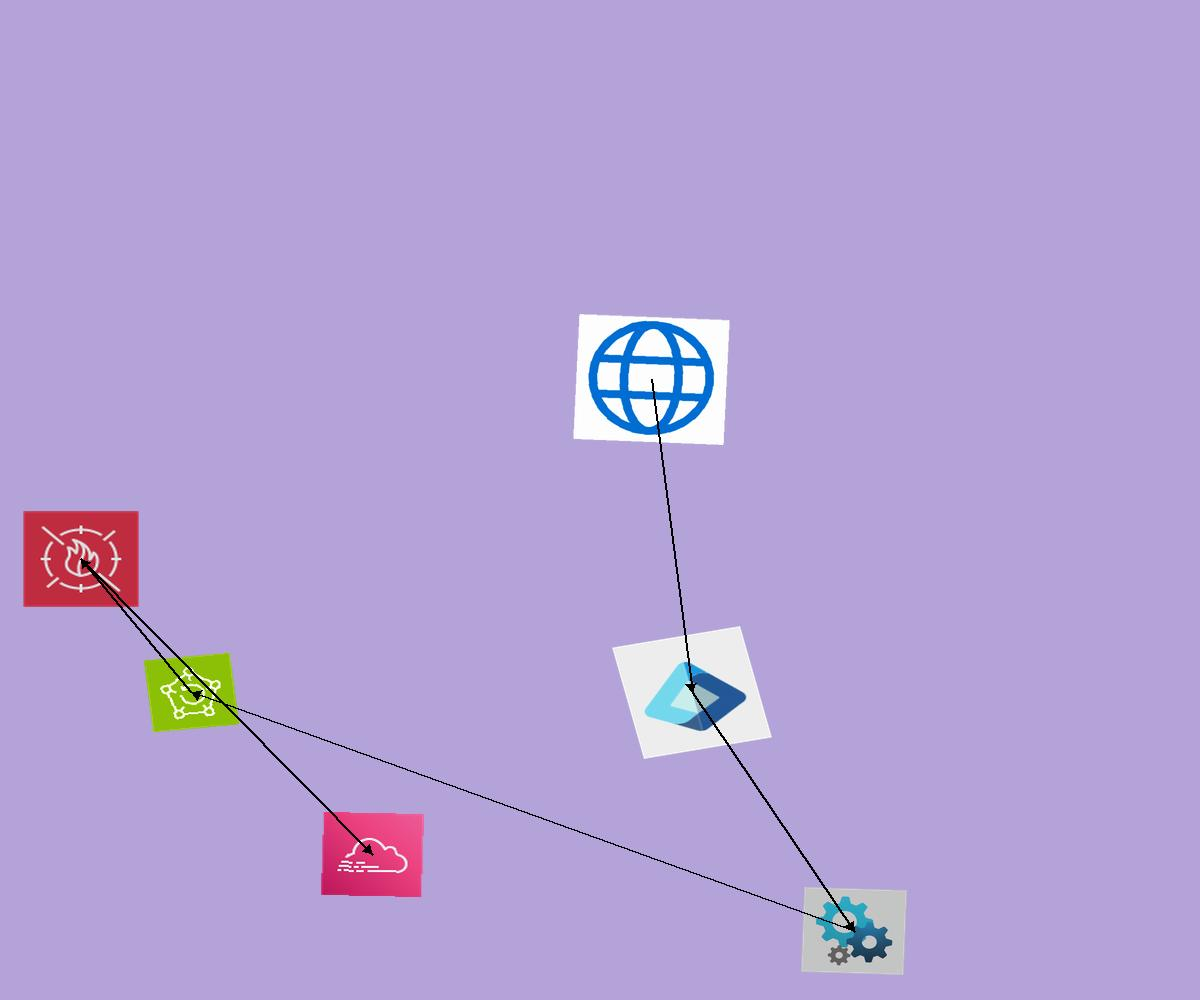AWS-Backup: (143, 652, 240, 733)
AWS-CloudTrail: (320, 811, 425, 898)
AWS-WAF: (22, 510, 140, 608)
Azure_api: (801, 887, 907, 975)
Azure_http: (573, 314, 730, 445)
Azure_microsoft_entra: (612, 626, 772, 759)
